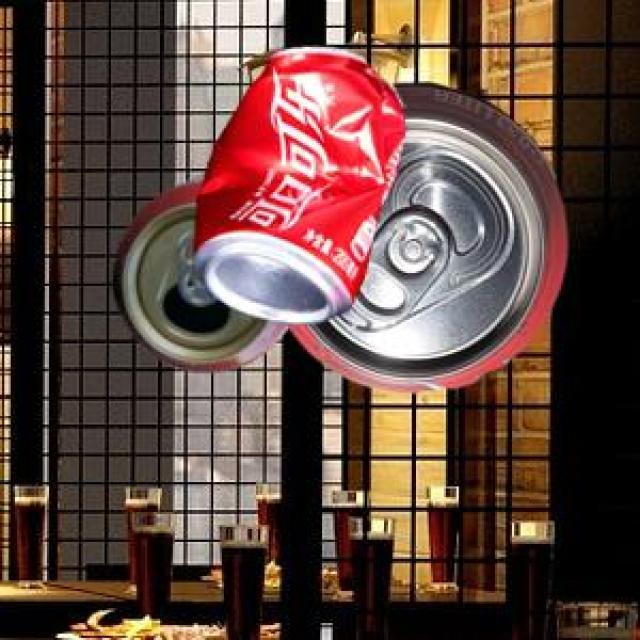Can: (285, 80, 564, 389), (191, 44, 402, 321), (110, 172, 285, 370)
